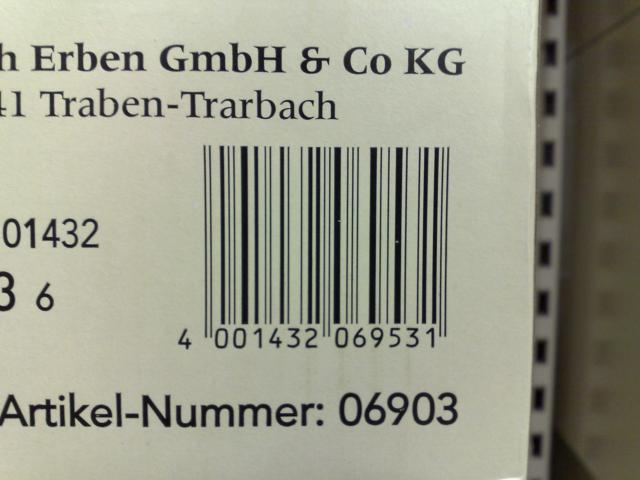Barkod: (199, 143, 450, 324)
